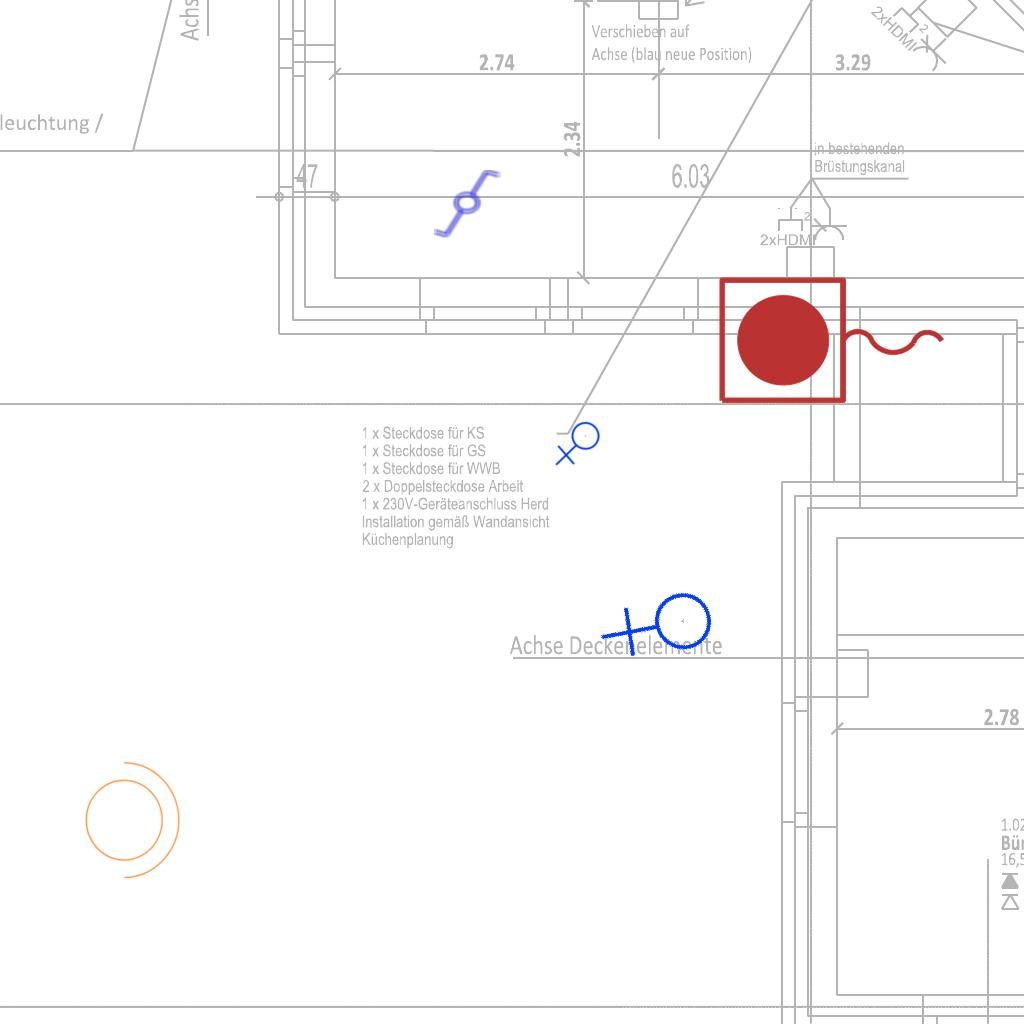Elektroanschluss_allgemein_230V_Geraeteanschlussdose_230V: (596, 562, 731, 696), (555, 421, 604, 468)
Scheinwerfer_fuer_Alarmbeleuchtung: (73, 751, 185, 883)
Wechselschalter: (432, 168, 510, 240)
Zugtaster: (711, 270, 955, 414)
